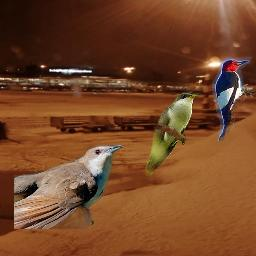Cuckoo: (14, 145, 123, 229), (144, 92, 201, 176)
Woodpecker: (208, 54, 253, 141)
